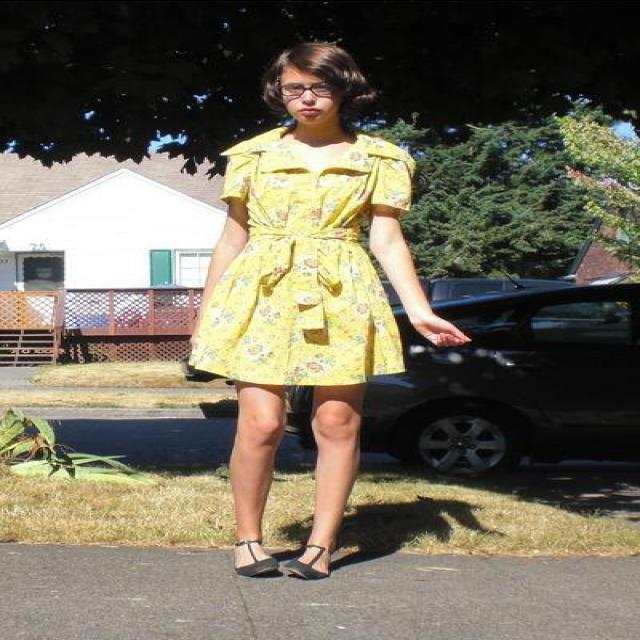dress: (189, 127, 414, 396)
shoe: (220, 544, 342, 579)
